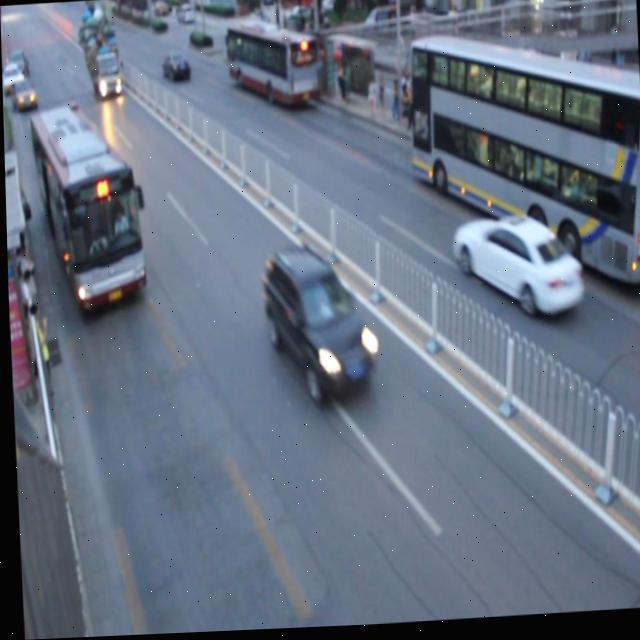bus: (79, 0, 121, 103)
car: (258, 244, 374, 411), (448, 211, 583, 327), (159, 50, 191, 86), (9, 74, 38, 111)
van: (407, 33, 640, 298), (25, 106, 145, 315), (224, 16, 319, 112)
